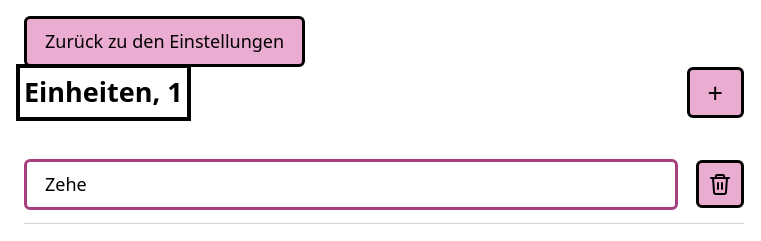
Scenario: KnownUnitsArea › returns to the list when the unit disappears
Step 1. Click the button named "Löschen, Zehe" → click(720, 184), box top-left (696, 160), bottom-right (744, 208)
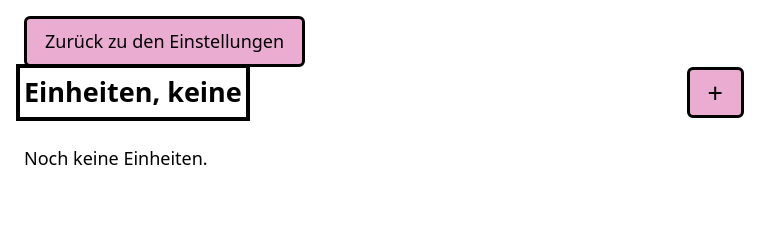
Expected: the heading "Einheiten, keine" is shown, top-left (24, 72), bottom-right (242, 113)
